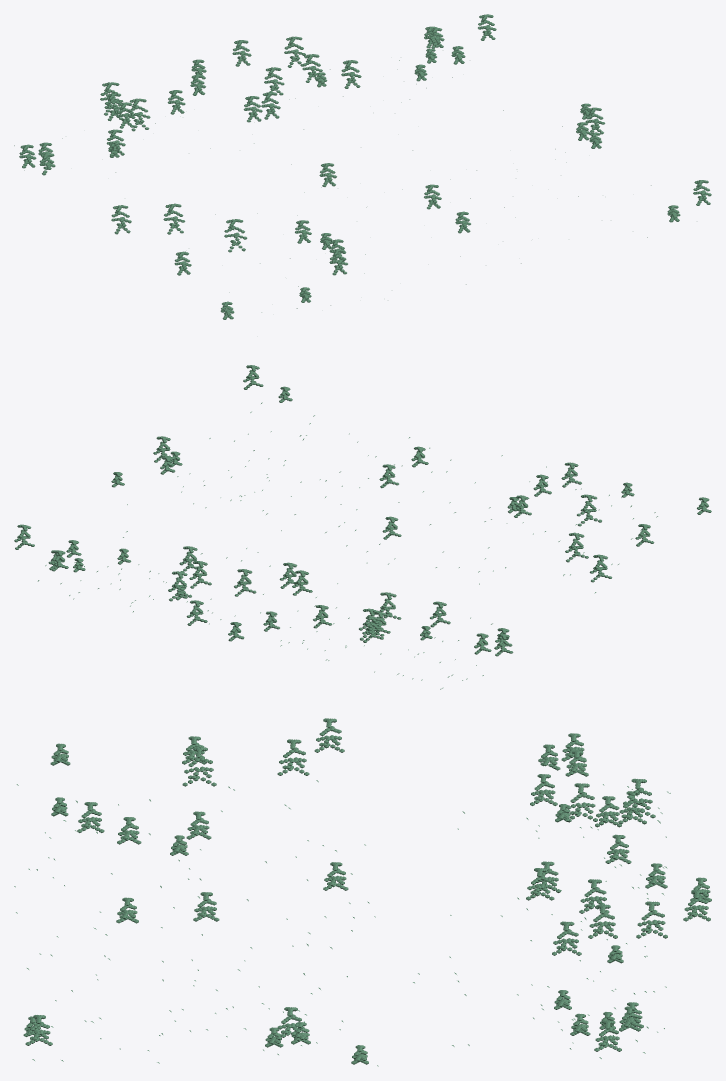
File: ALCHUL_M1_GEOMETRY_02.glb
3 views of the same model, one above another, from view 1: azimuth 30°, elevation 25°; view 2: azimuth 150°, elevation 25°; view 3: azimuth 270°, elevation 25° (orthographic). The views are drawn at different scales.
Visible parts, largest first — view 1: m1__leaf_035958_071916; view 2: m1__leaf_035958_071916; view 3: m1__leaf_035958_071916.
Part boxes in pixels (box(x1,y1,x2,y2)): m1__leaf_035958_071916: box(14, 14, 711, 319); m1__leaf_035958_071916: box(14, 365, 711, 689); m1__leaf_035958_071916: box(14, 718, 711, 1066).
Bounding box in the file's own units: 110 × 12.19 × 106.
